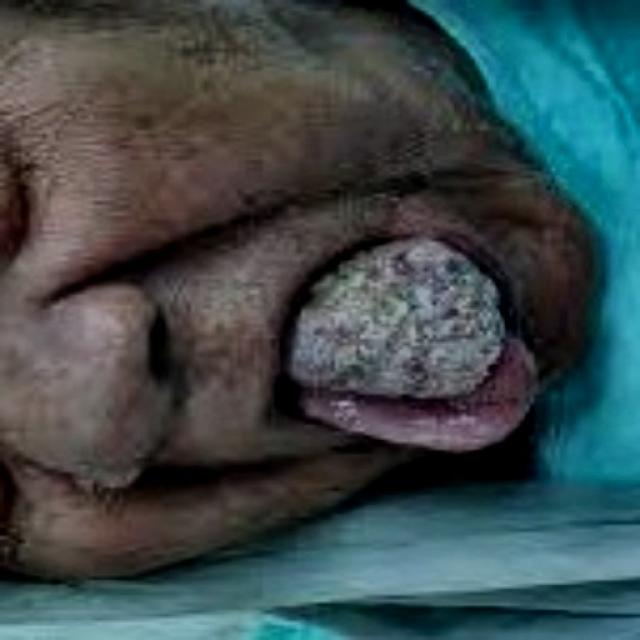cancer-detection: (290, 237, 504, 401)
processing_area: (283, 240, 536, 449)
